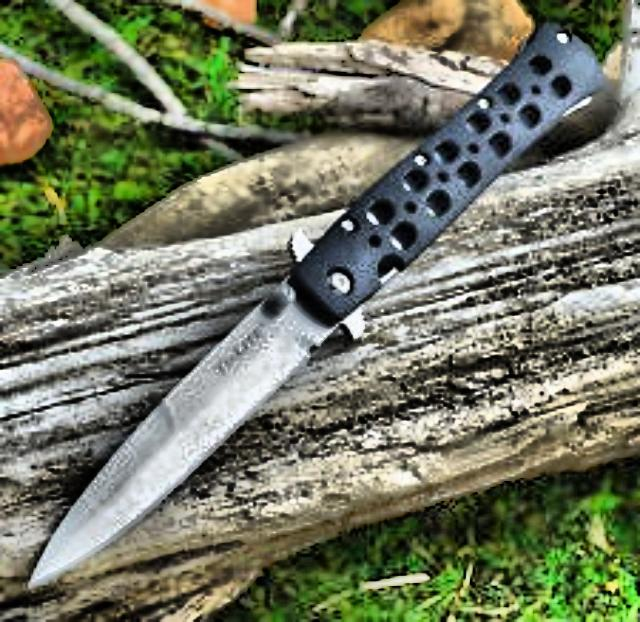knife: (20, 265, 330, 597)
